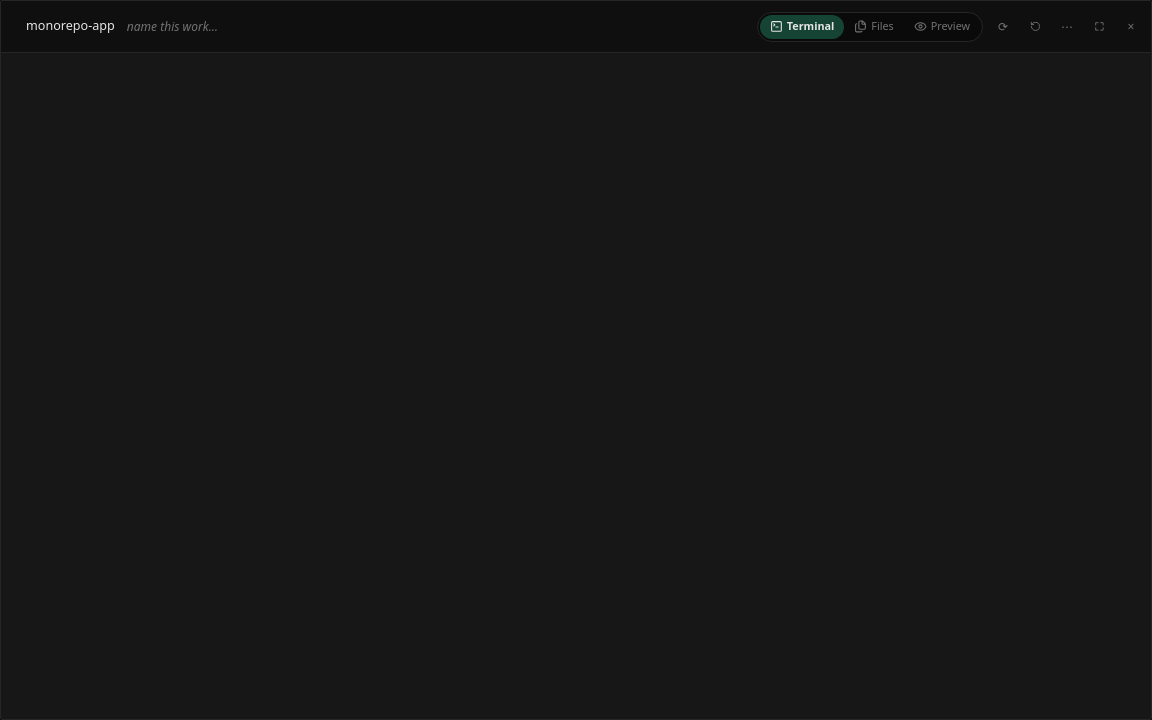
Test: Tile header context menu: IDs › keeps kill and restart available when the narrow header hides it
Step 1. Right-click the element showing "monorepo-app name this work… Terminal Files Preview ⟳ ⋯ ×" → {"x": 576, "y": 27}, box [1,1,1151,53]
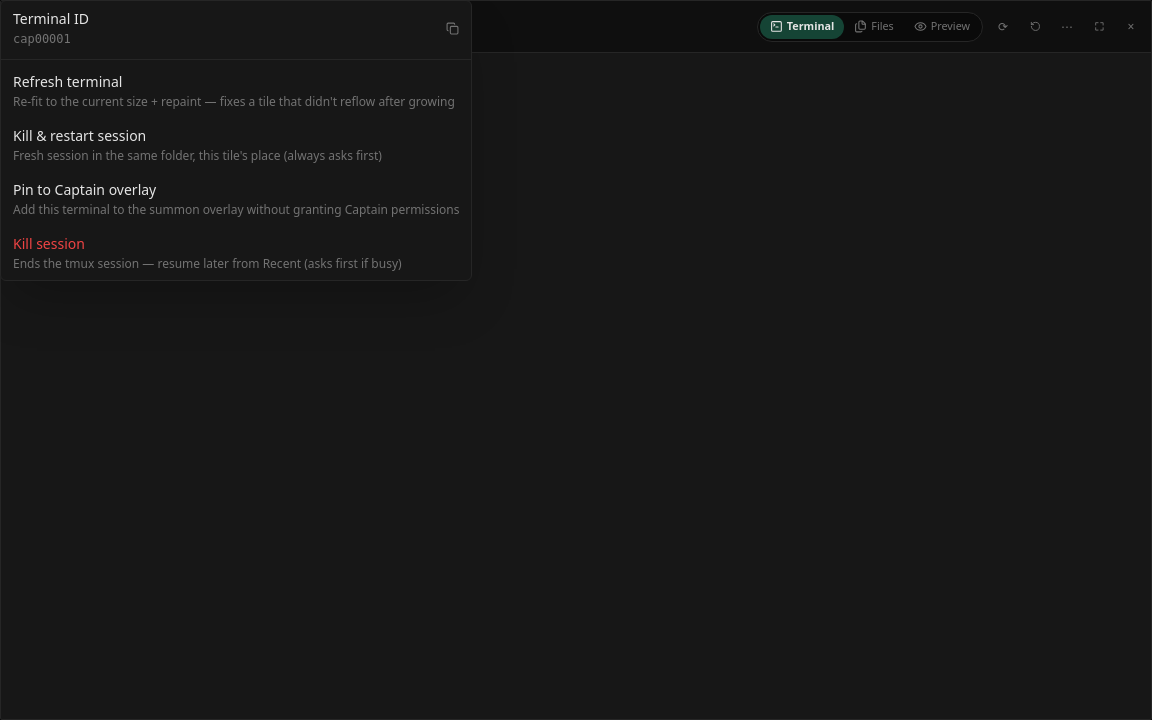
Result: the text "Terminal ID" is shown at [1,1,472,55]
Step 2. Click the text "Kill & restart session" → {"x": 80, "y": 136}, box [13,126,146,146]
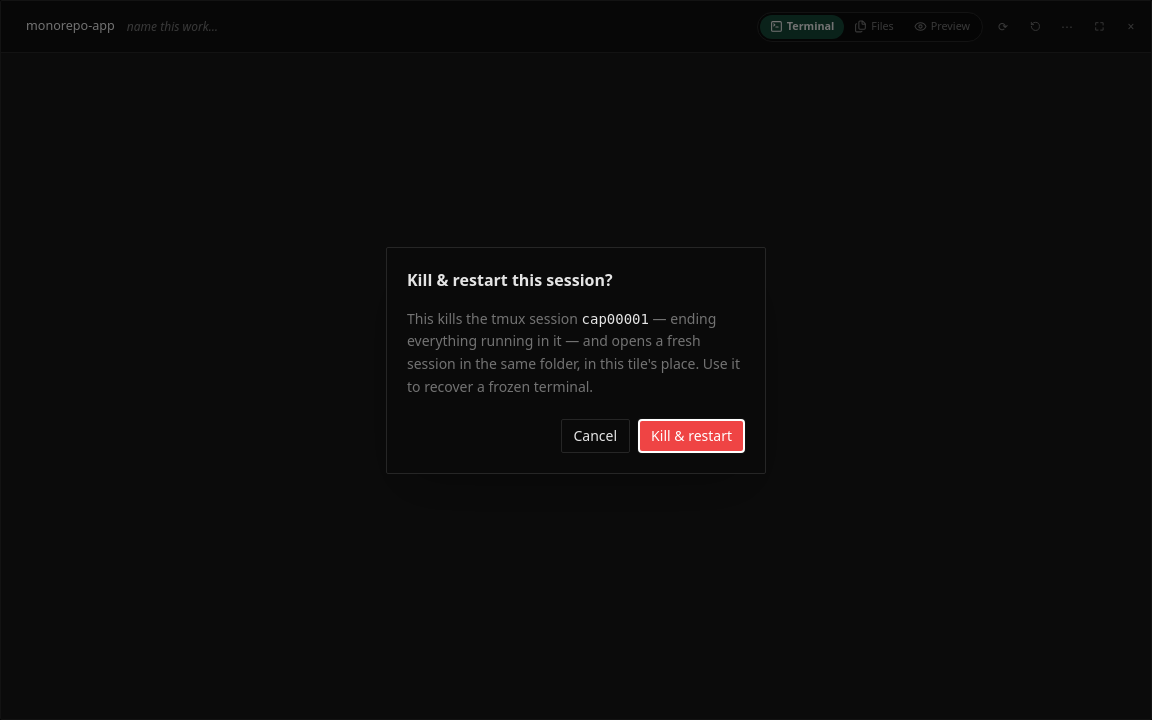
Result: the dialog is shown at [386,246,766,474]
Result: the dialog shows "Kill & restart this session?" at [407,268,613,290]
